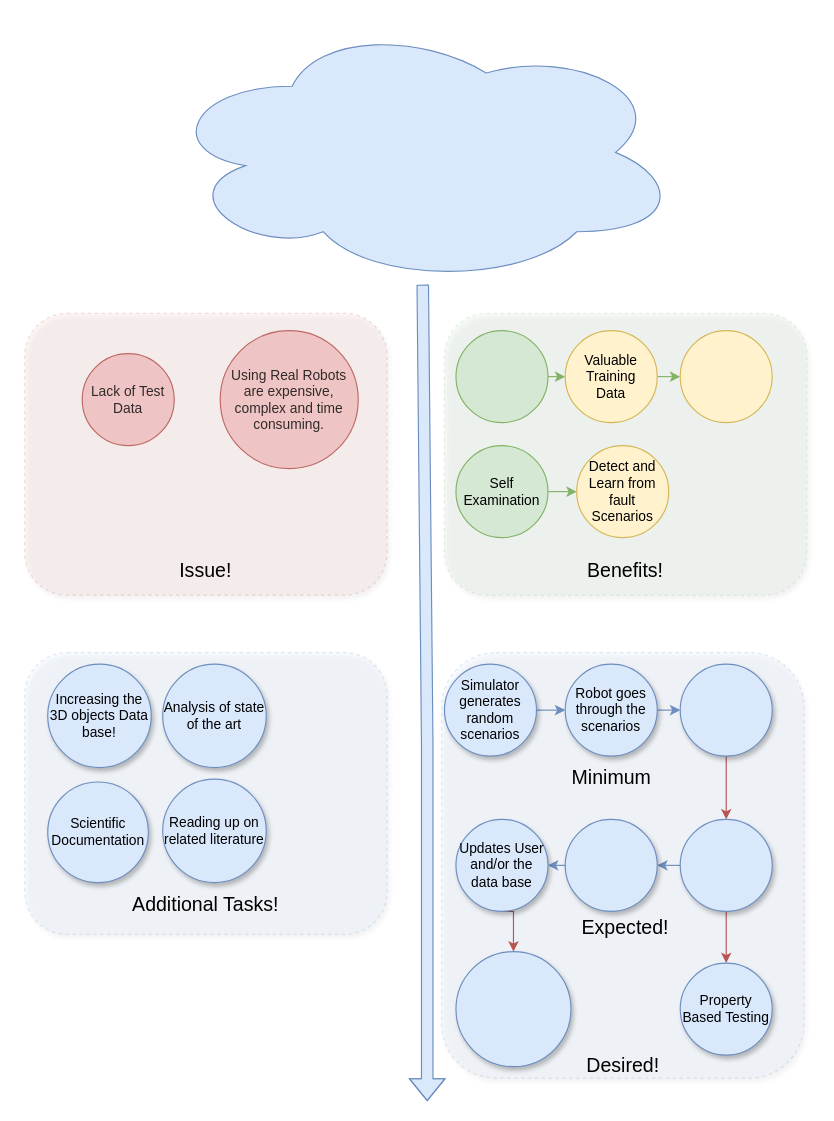
The diagram is 834 pixels wide and 1121 high, and some of its shapes have lost their labels. Each missing label, with the centre of its shape:
"Desired Testing" goes at (x=501, y=376).
"Fault Analysis" goes at (x=611, y=866).
"Learns from fault and re-runs sim. with corrected behavior" goes at (x=514, y=1010).
"Mach. Lear. algorithm analyzes result" goes at (x=726, y=866).
"Result is Recorded" goes at (x=726, y=711).
"Test Generation for Robot Self-Examination" goes at (x=421, y=152).
"What works and what doesn't" goes at (x=725, y=376).
